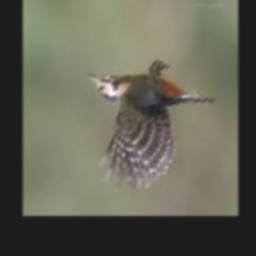Woodpecker: (83, 62, 214, 189)
